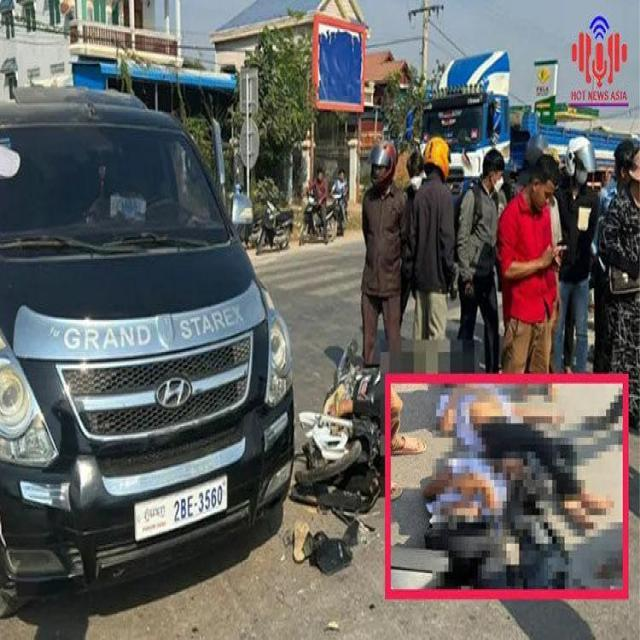Phnom_Penh: (144, 505, 166, 522)
